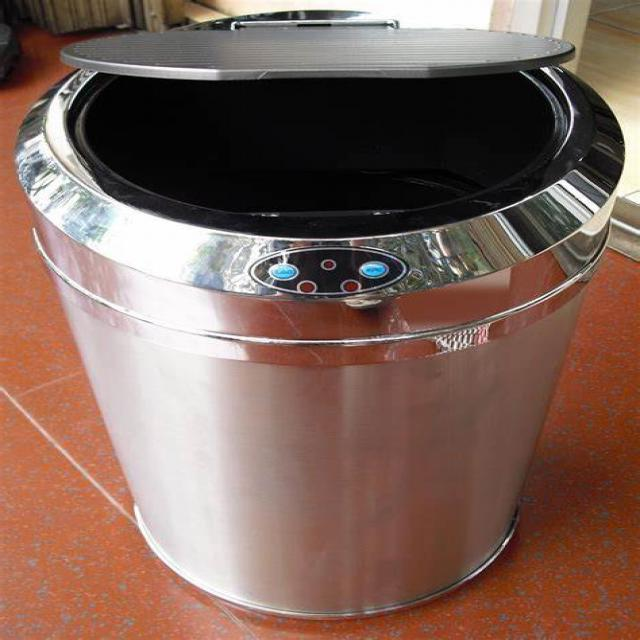garbage container: (3, 3, 626, 622)
